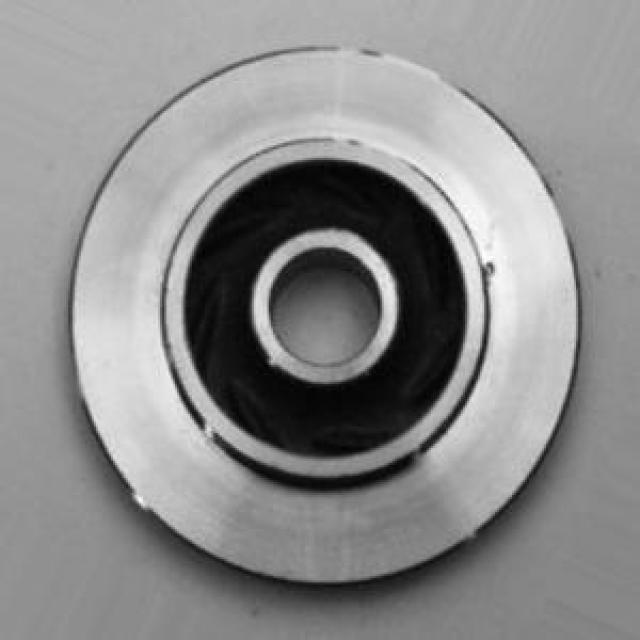Defect: (474, 255, 499, 283)
